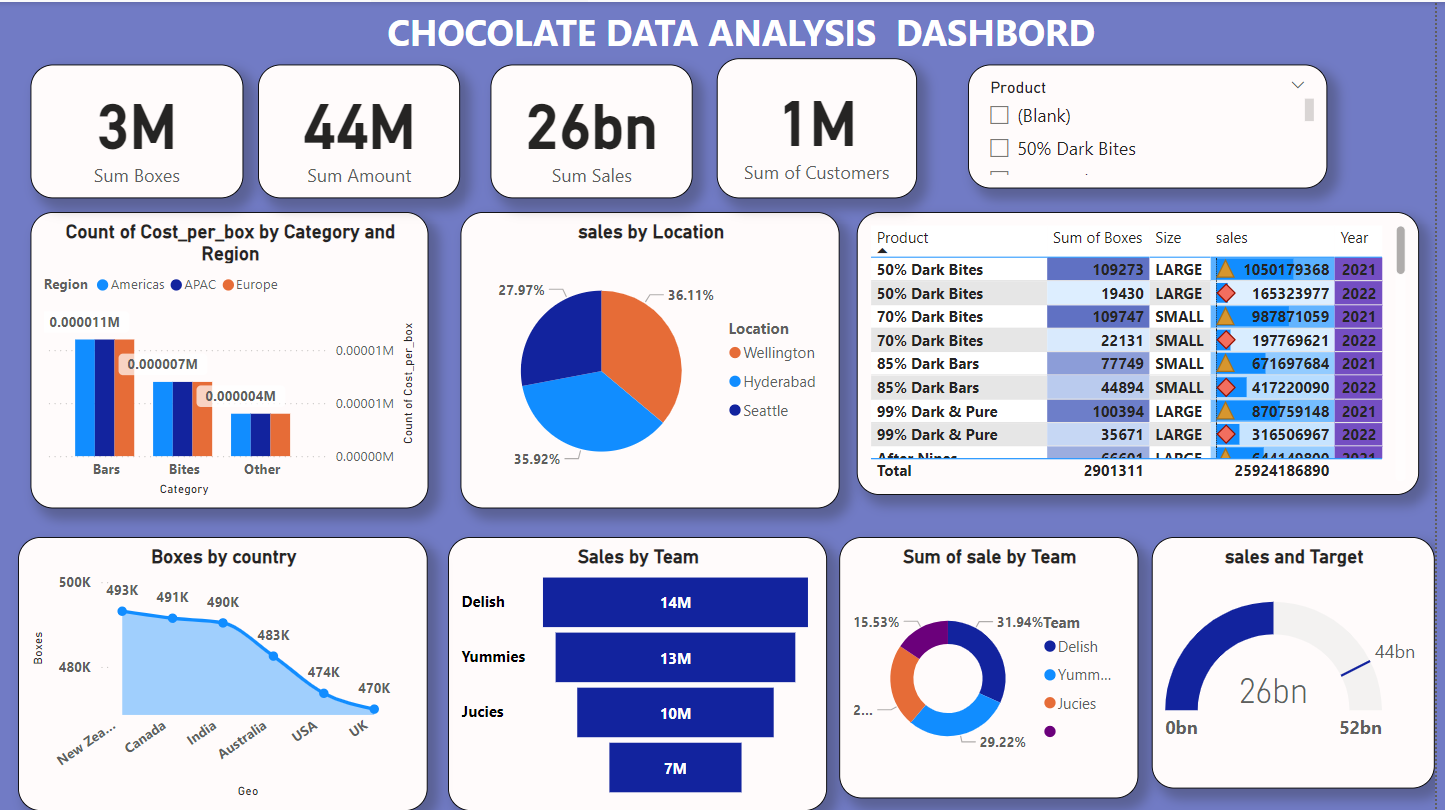

Layout of this report page (visuals, bound fields, positions):
{"tool":"powerbi","page":{"name":"Page 2","canvas":[1280,720],"ordinal":1},"visuals":[{"type":"funnel","title":"Sales by Team","fields":{"Category":["awesome chocolates people.Team"],"Y":["Sum(awesome chocolates sales.Amount)"]},"box":[400.7,476.2,337.6,244.3],"z":0},{"type":"lineClusteredColumnComboChart","fields":{"Category":["awesome chocolates products.Category"],"Y":["CountNonNull(awesome chocolates products.Cost_per_box)"],"Series":["awesome chocolates geo.Region"]},"box":[29,187,354.7,264.2],"z":1000},{"type":"lineChart","title":" Boxes by country","fields":{"Category":["awesome chocolates geo.Geo"],"Y2":["Sum(awesome chocolates sales.Boxes)"]},"box":[17.8,476.2,365,244.3],"z":2000},{"type":"pieChart","fields":{"Category":["awesome chocolates people.Location"],"Y":["Sum(awesome chocolates sales.Multiplication)"]},"box":[411.4,187,337.8,264.2],"z":3000},{"type":"card","fields":{"Values":["Sum(awesome chocolates sales.Boxes)"]},"box":[27.7,39.8,178.6,118.2],"z":4000},{"type":"slicer","title":"products","fields":{"Values":["awesome chocolates products.Product"]},"box":[863.8,39.8,365.6,147.2],"z":5000},{"type":"card","fields":{"Values":["Sum(awesome chocolates sales.Amount)"]},"box":[232.8,39.8,178.6,118.2],"z":6000},{"type":"tableEx","title":"Product Sale and profit ","fields":{"Values":["awesome chocolates products.Product","Sum(awesome chocolates sales.Boxes)","awesome chocolates products.Size","Sum(awesome chocolates sales.Multiplication)","awesome chocolates sales.SaleDate.Variation.Date Hierarchy.Year"]},"box":[766.1,200.3,500.7,250.9],"z":7000},{"type":"card","fields":{"Values":["Sum(awesome chocolates sales.Multiplication)"]},"box":[437.9,39.8,177.3,118.2],"z":8000},{"type":"donutChart","title":"Sum of sale by Team","fields":{"Y":["Sum(awesome chocolates sales.Multiplication)"],"Category":["awesome chocolates people.Team"]},"box":[749.2,476.5,266.6,232.8],"z":9000},{"type":"card","fields":{"Values":["Sum(awesome chocolates sales.Customers)"]},"box":[639.4,39.8,194.2,118.2],"z":10000},{"type":"gauge","fields":{"Y":["Sum(awesome chocolates sales.Multiplication)"],"TargetValue":["awesome chocolates geo.Target"]},"box":[1027.9,476.5,252.1,224.4],"z":10001}]}

Visuals, with their boxes in screenshot pixels (x1, y1, x2, y2), scaled from the page's 1280x720 canvas onto the 1445x810 screenshot:
"Sales by Team" funnel: <box>452,536,833,809</box>
lineClusteredColumnComboChart - awesome chocolates products.Category x CountNonNull(awesome chocolates products.Cost_per_box): <box>33,210,433,508</box>
" Boxes by country" lineChart: <box>20,536,432,809</box>
pieChart - awesome chocolates people.Location x Sum(awesome chocolates sales.Multiplication): <box>464,210,846,508</box>
card - Sum(awesome chocolates sales.Boxes): <box>31,45,233,178</box>
"products" slicer: <box>975,45,1388,210</box>
card - Sum(awesome chocolates sales.Amount): <box>263,45,464,178</box>
"Product Sale and profit " tableEx: <box>865,225,1430,508</box>
card - Sum(awesome chocolates sales.Multiplication): <box>494,45,695,178</box>
"Sum of sale by Team" donutChart: <box>846,536,1147,798</box>
card - Sum(awesome chocolates sales.Customers): <box>722,45,941,178</box>
gauge - Sum(awesome chocolates sales.Multiplication) x awesome chocolates geo.Target: <box>1160,536,1444,789</box>
